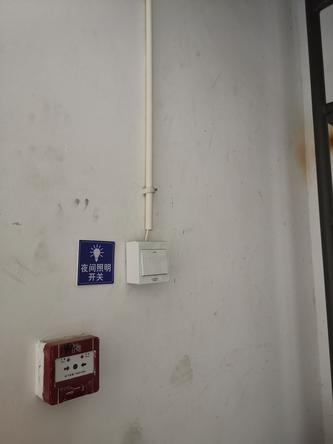switch: (138, 243, 171, 280)
